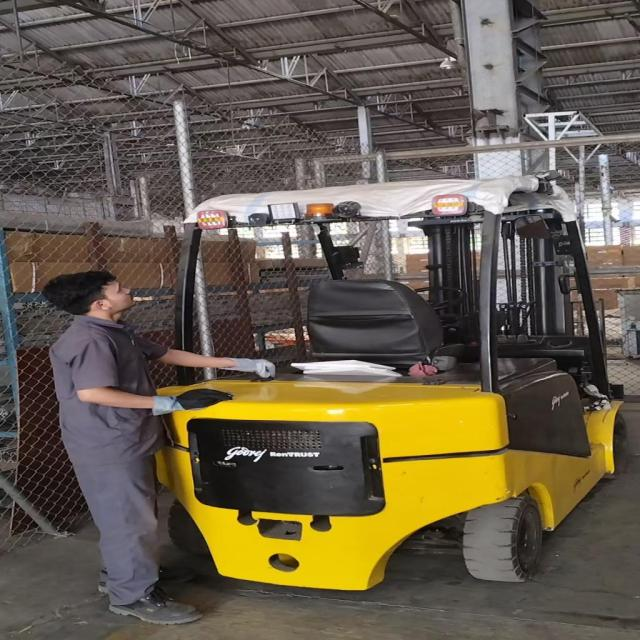Gloves-Detection: (154, 391, 251, 416), (224, 352, 285, 382)
